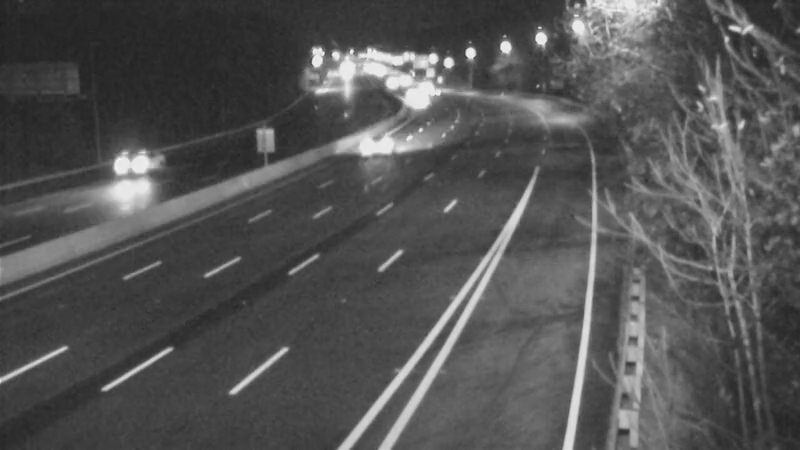vehicle: (94, 126, 174, 206), (393, 77, 443, 127), (361, 115, 411, 165)
